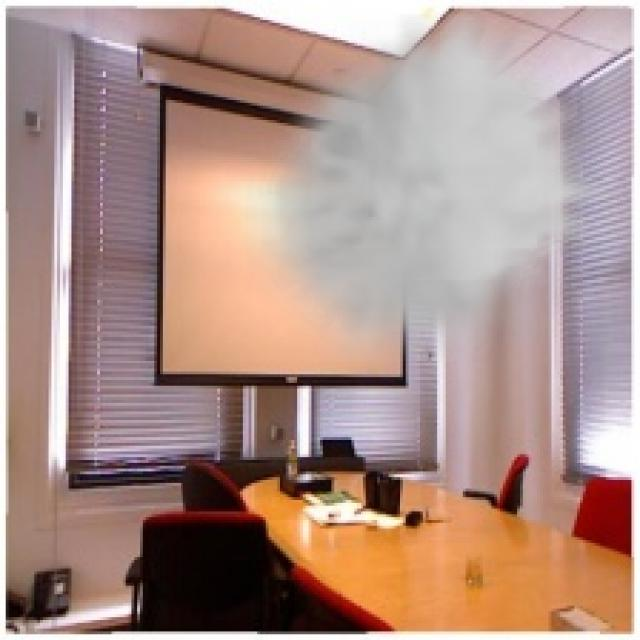smoke: (245, 14, 606, 360)
